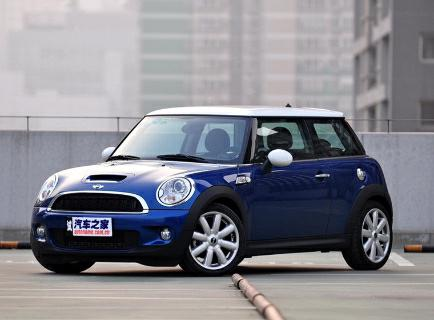MINI: (24, 101, 404, 280)
